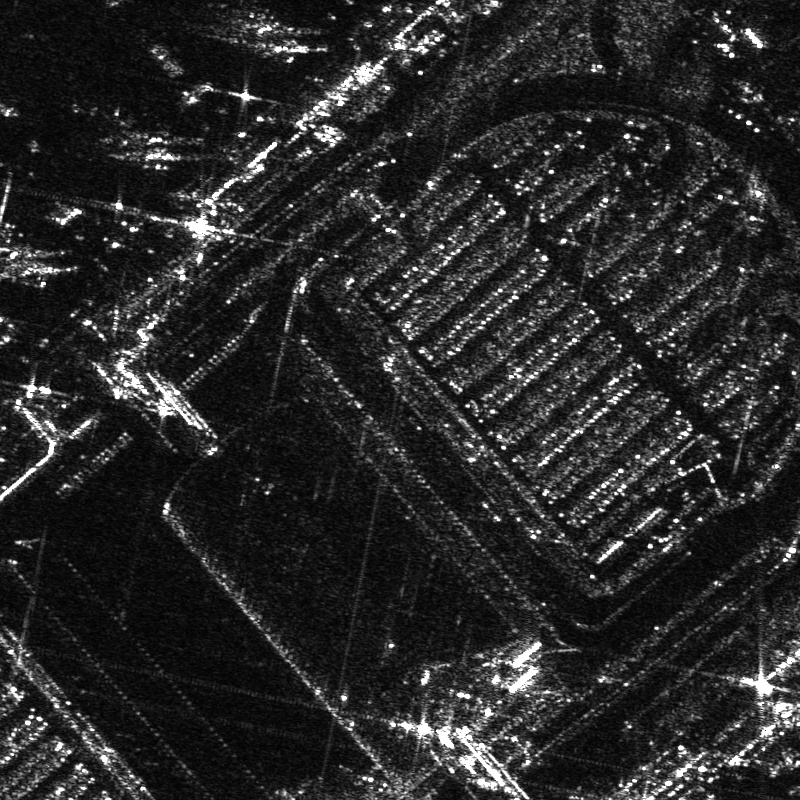Boeing787: (1, 154, 11, 242)
